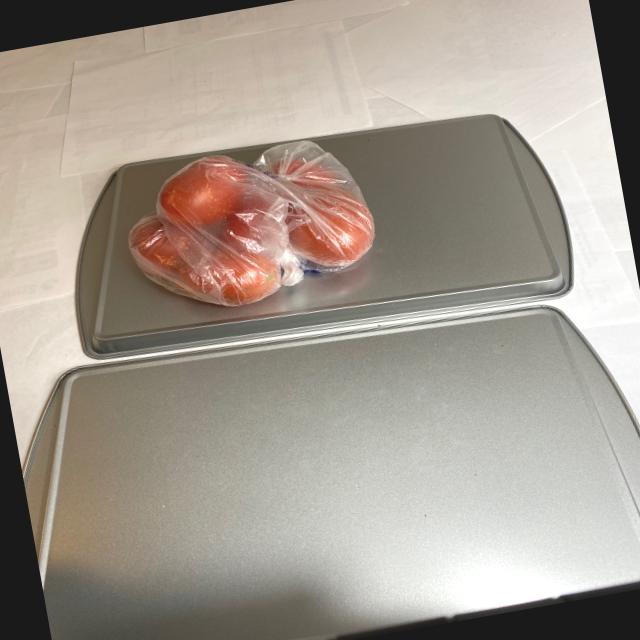tomato: (114, 134, 380, 322)
